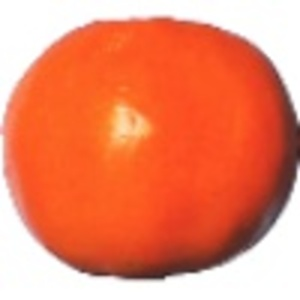tangerina: (1, 14, 300, 283)
